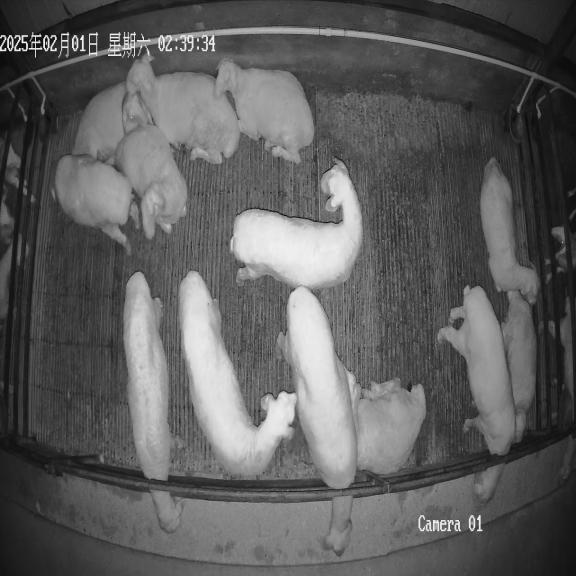eating: (286, 288, 358, 562), (123, 272, 183, 535)
lying: (126, 52, 240, 164), (215, 58, 315, 163), (51, 154, 139, 253), (480, 158, 539, 303), (346, 370, 426, 475), (115, 124, 187, 239), (72, 82, 150, 165), (501, 291, 536, 443)
stand: (179, 271, 297, 478), (230, 158, 362, 290)
